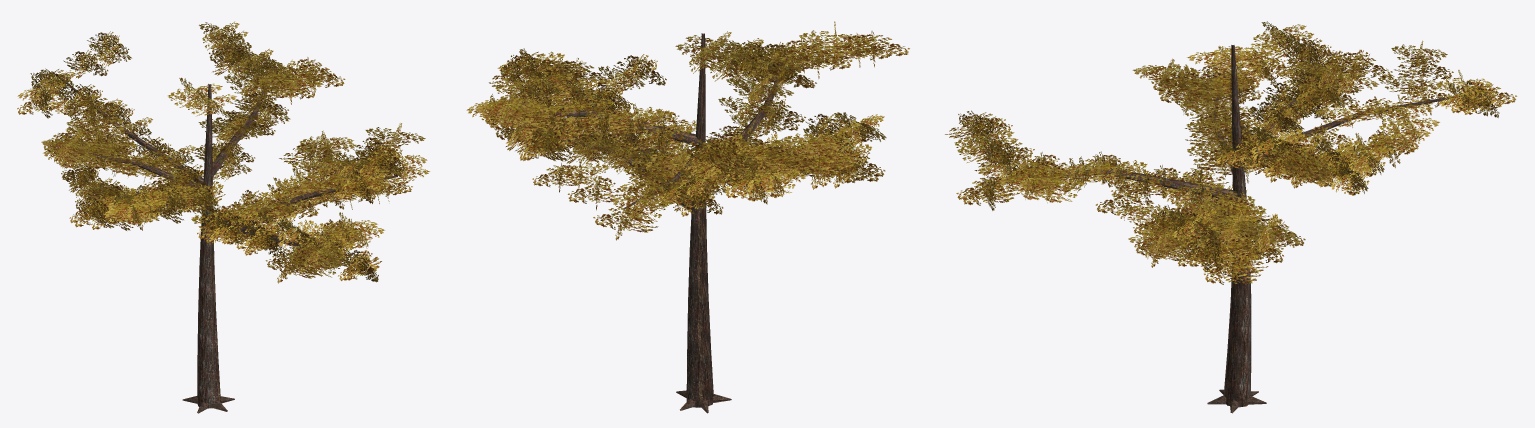
The model's file is tree_3d_05_yellow_lod1.glb.
3 renders of one model, left to right at view 1: azimuth 30°, elevation 25°; view 2: azimuth 150°, elevation 25°; view 3: azimuth 270°, elevation 25°, orthographic. The views are drawn at different scales.
Parts seen in each view (by area): view 1: foliage_cards, wood_geometry; view 2: foliage_cards, wood_geometry; view 3: foliage_cards, wood_geometry.
Part boxes in pixels (x1,y1,x2,y2): foliage_cards: [17, 21, 429, 283]; wood_geometry: [57, 68, 397, 413]; foliage_cards: [466, 21, 909, 240]; wood_geometry: [498, 33, 849, 413]; foliage_cards: [945, 21, 1517, 286]; wood_geometry: [992, 45, 1475, 413].
Bounding box in the file's own units: 9.84 × 8.88 × 12.95.
Materials: 2 (2 with a texture image).
